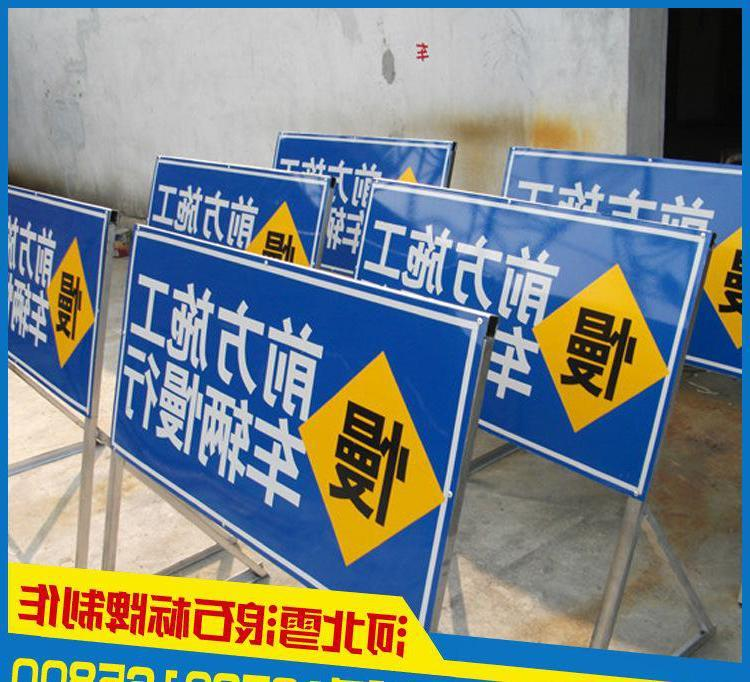sign: (121, 235, 471, 602), (366, 180, 683, 489), (9, 189, 106, 405), (140, 160, 329, 257), (277, 131, 450, 195)
